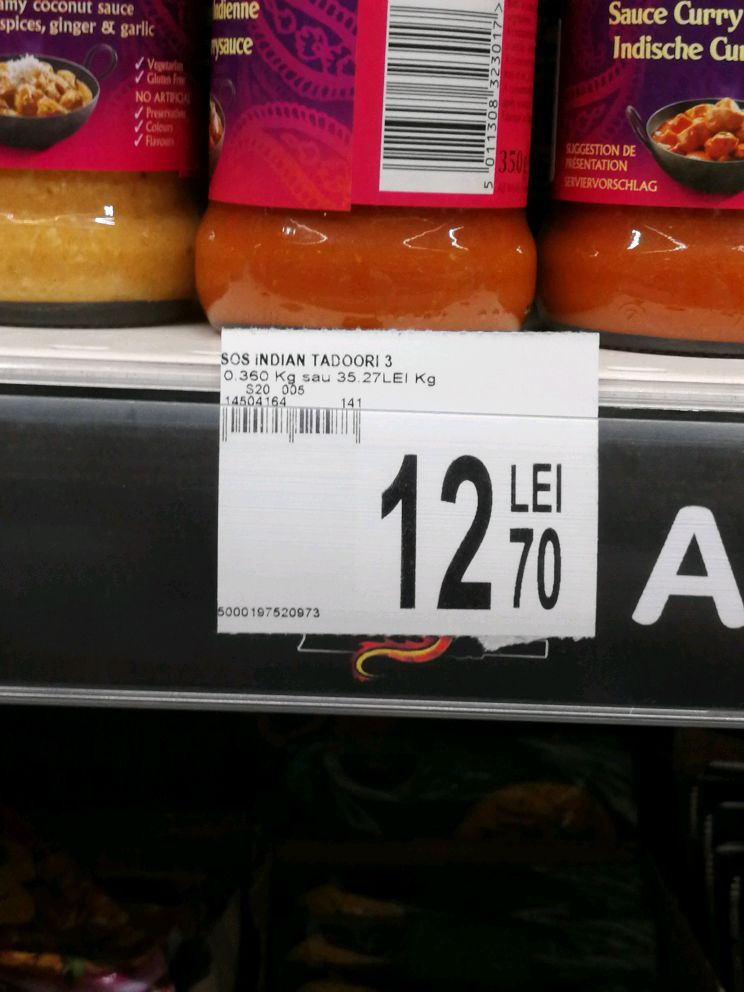price_bani: (497, 520, 576, 618)
price_lei: (370, 450, 503, 616)
price_tag: (194, 315, 630, 649)
product_id: (212, 602, 335, 623)
product_name: (219, 347, 407, 371)
